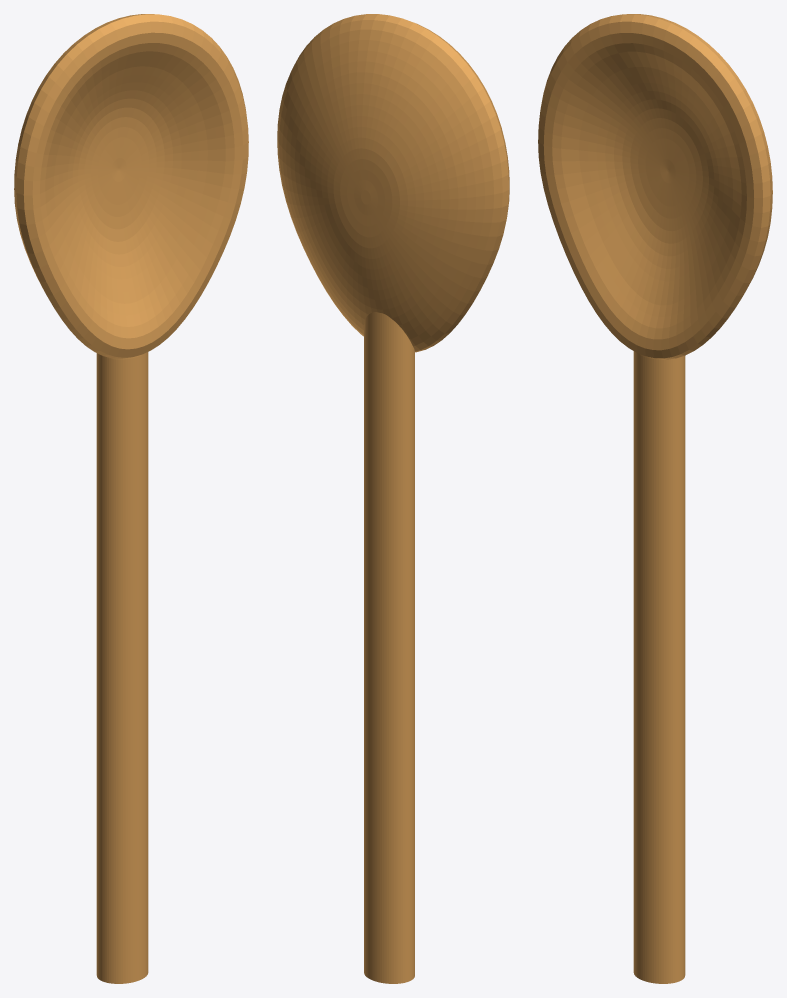
The model's file is spoon.fbx.
The picture shows the model from 3 angles, left to right: view 1: azimuth 30°, elevation 25°; view 2: azimuth 150°, elevation 25°; view 3: azimuth 330°, elevation 25°; orthographic projection.
Visible parts, largest first — view 1: spoon; view 2: spoon; view 3: spoon.
Part boxes in pixels (bbox=[...]): spoon: bbox=[14, 14, 248, 983]; spoon: bbox=[277, 14, 509, 983]; spoon: bbox=[538, 14, 772, 983].
Size of the model in its own units: 2007 by 7954 by 530.
